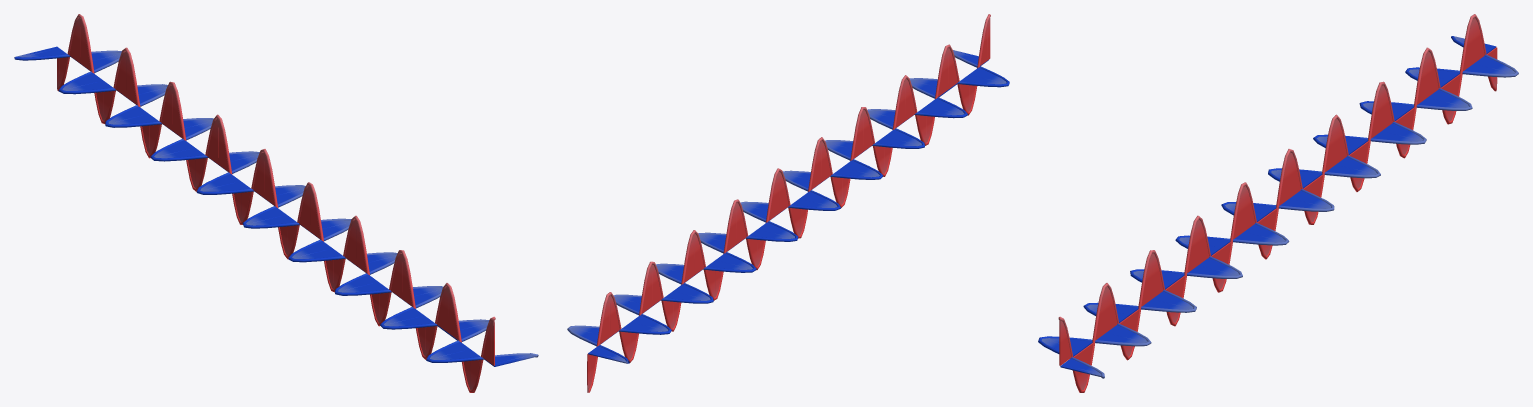
The model's file is xray.glb.
3 views of the same model, side by side, from view 1: azimuth 30°, elevation 25°; view 2: azimuth 150°, elevation 25°; view 3: azimuth 330°, elevation 25° (orthographic). The views are drawn at different scales.
Parts seen in each view (by area): view 1: xray; view 2: xray; view 3: xray.
Boxes of the visible parts, bbox=[...] form: xray: bbox=[14, 14, 538, 392]; xray: bbox=[567, 14, 1009, 392]; xray: bbox=[1038, 14, 1518, 392].
Size of the model in its own units: 0.7659 by 0.7659 by 6.48.
4 materials, 4 textured.
